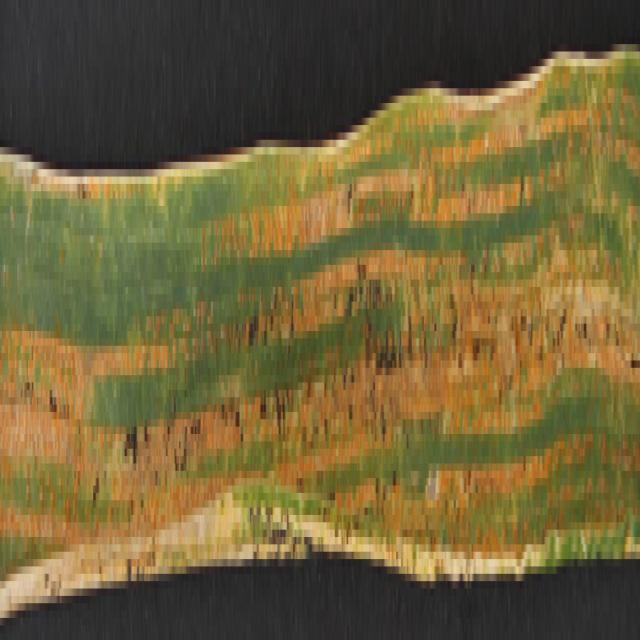leaf rust: (2, 66, 639, 574)
